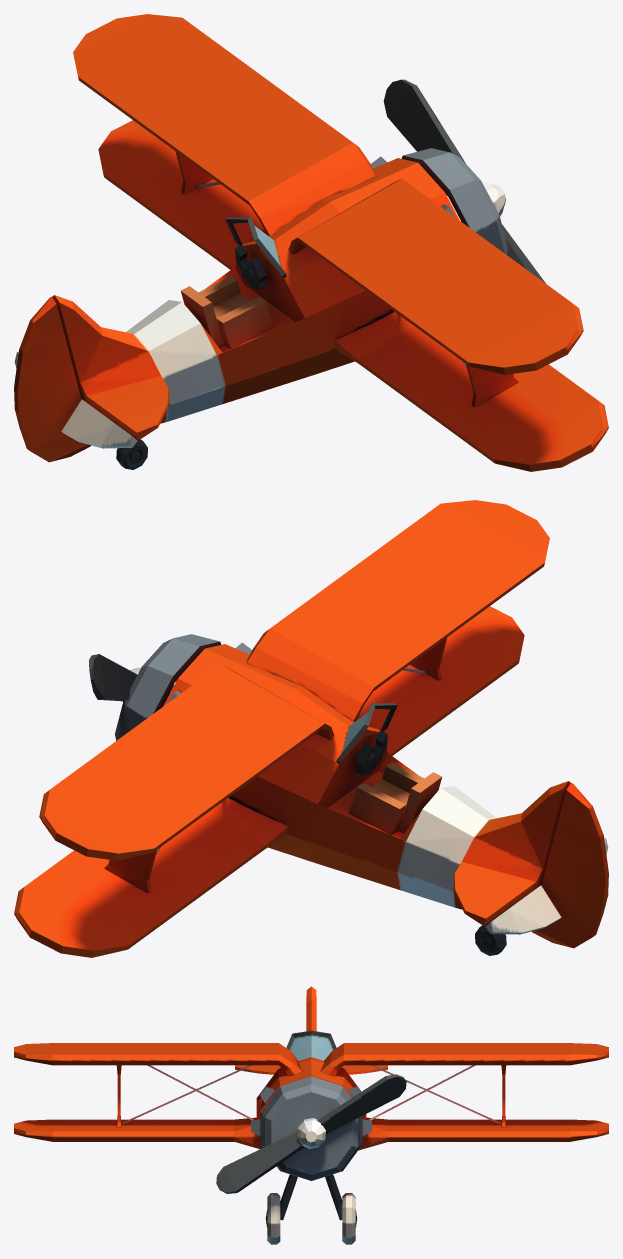
3 renders of one model, top to bottom at view 1: azimuth 30°, elevation 25°; view 2: azimuth 150°, elevation 25°; view 3: azimuth 270°, elevation 25°, orthographic. The views are drawn at different scales.
Visible parts, largest first — view 1: PUSHILIN_Plane, PUSHILIN_Plane_Fan; view 2: PUSHILIN_Plane, PUSHILIN_Plane_Fan; view 3: PUSHILIN_Plane, PUSHILIN_Plane_Fan.
Part boxes in pixels (left/top/right/bottom): PUSHILIN_Plane: left=14, top=14, right=608, bottom=471; PUSHILIN_Plane_Fan: left=383, top=79, right=545, bottom=283; PUSHILIN_Plane: left=14, top=500, right=608, bottom=957; PUSHILIN_Plane_Fan: left=89, top=654, right=174, bottom=707; PUSHILIN_Plane: left=14, top=986, right=608, bottom=1244; PUSHILIN_Plane_Fan: left=216, top=1074, right=406, bottom=1193.
Size of the model in its own units: 2.4 by 1.21 by 3.78.
1 material, 1 textured.
